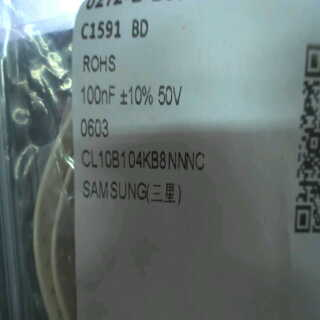100nF: (79, 77, 120, 105)
